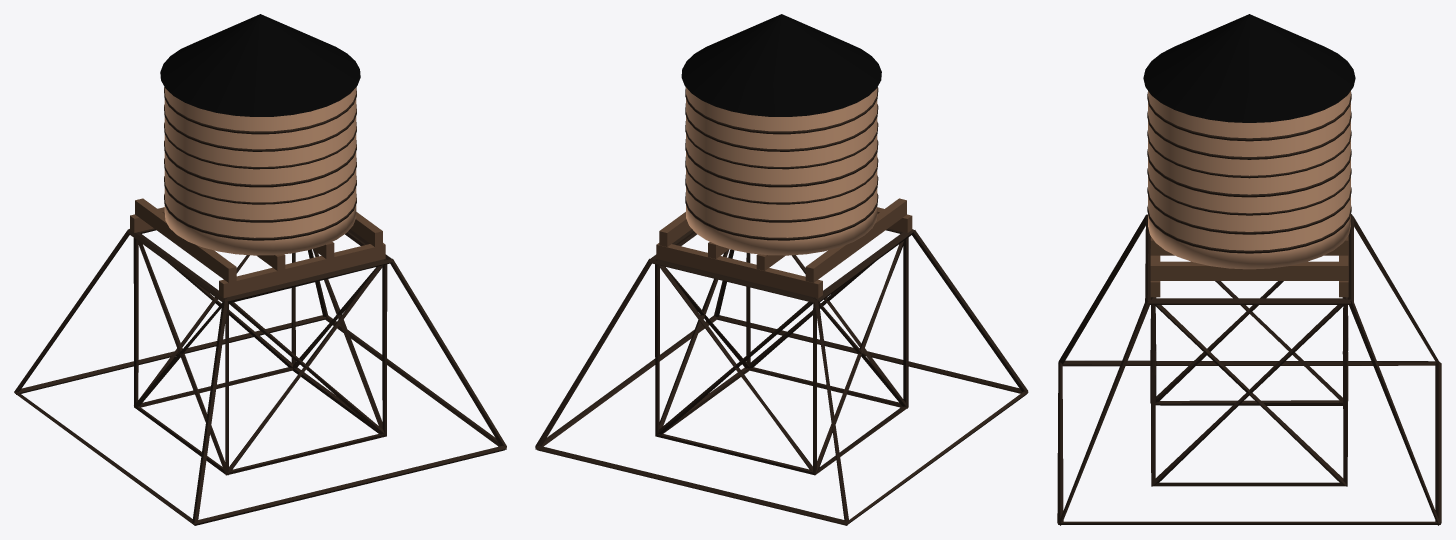
Rendered from water tower.fbx.
3 views of the same model, side by side, from view 1: azimuth 30°, elevation 25°; view 2: azimuth 150°, elevation 25°; view 3: azimuth 270°, elevation 25° (orthographic). The views are drawn at different scales.
Parts seen in each view (by area): view 1: Water Tower Housing, Water Tower Roof, Water Tower Support Cross Cube.001, Water Tower Wide Base, Water Tower Pressure Bands, Water Tower Cross Beam, Water Tower Foundation; view 2: Water Tower Housing, Water Tower Roof, Water Tower Support Cross Cube.001, Water Tower Wide Base, Water Tower Pressure Bands, Water Tower Cross Beam, Water Tower Foundation; view 3: Water Tower Housing, Water Tower Roof, Water Tower Wide Base, Water Tower Support Cross Cube.001, Water Tower Pressure Bands, Water Tower Foundation, Water Tower Cross Beam.
Part boxes in pixels (x1,y1,x2,y2): Water Tower Housing: [164, 87, 356, 255]; Water Tower Roof: [160, 14, 360, 116]; Water Tower Support Cross Cube.001: [133, 228, 387, 475]; Water Tower Wide Base: [14, 229, 506, 525]; Water Tower Pressure Bands: [164, 87, 356, 240]; Water Tower Cross Beam: [130, 207, 385, 298]; Water Tower Foundation: [135, 198, 382, 282]; Water Tower Housing: [686, 87, 877, 255]; Water Tower Roof: [681, 14, 881, 116]; Water Tower Support Cross Cube.001: [655, 228, 908, 475]; Water Tower Wide Base: [535, 229, 1028, 525]; Water Tower Pressure Bands: [685, 87, 878, 240]; Water Tower Cross Beam: [656, 207, 912, 298]; Water Tower Foundation: [659, 198, 906, 282]; Water Tower Housing: [1148, 91, 1350, 269]; Water Tower Roof: [1143, 14, 1355, 122]; Water Tower Wide Base: [1057, 214, 1441, 525]; Water Tower Support Cross Cube.001: [1150, 236, 1348, 486]; Water Tower Pressure Bands: [1147, 92, 1351, 253]; Water Tower Foundation: [1150, 237, 1348, 280]; Water Tower Cross Beam: [1150, 236, 1348, 297].
Bounding box in the file's own units: 378 × 470 × 379.
